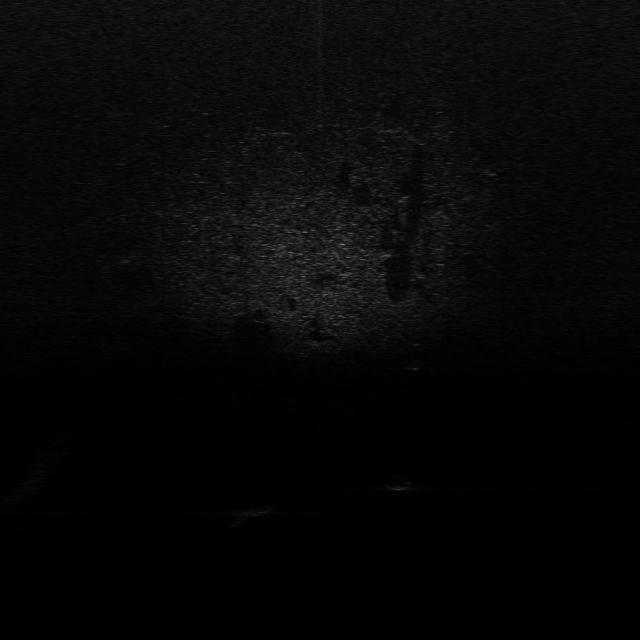ball: (381, 472, 412, 495)
square cage: (228, 498, 274, 520)
tyre: (408, 337, 431, 376)
